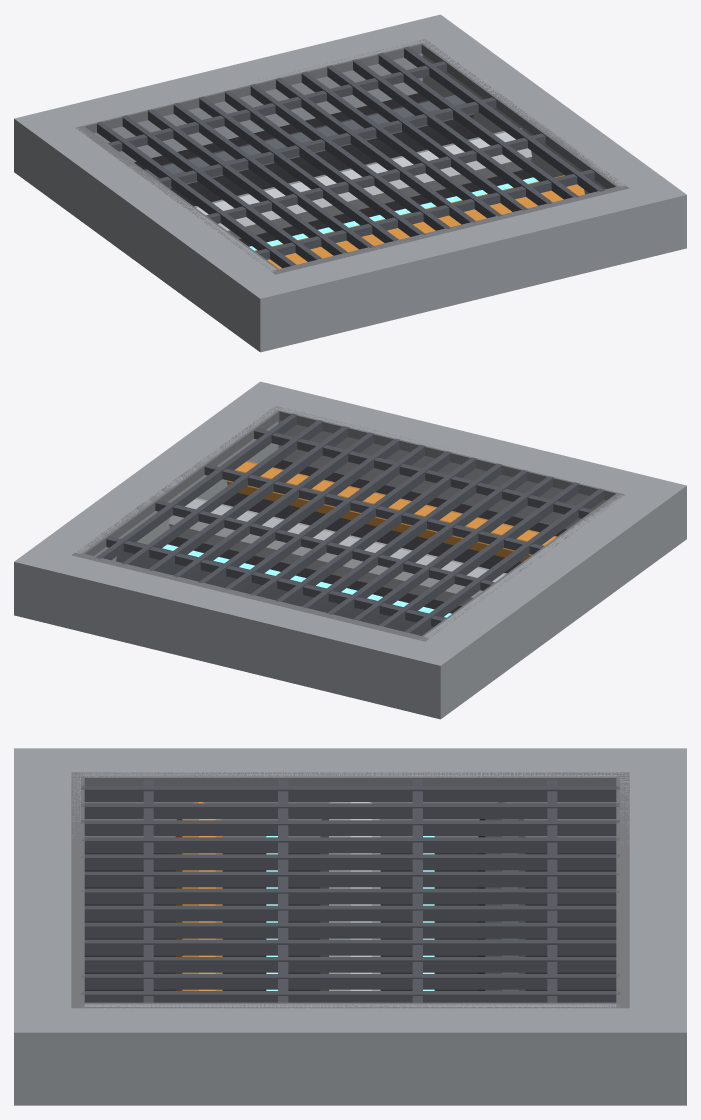
File: SM_Floor_Grate_Lit.glb
3 renders of one model, top to bottom at view 1: azimuth 30°, elevation 25°; view 2: azimuth 150°, elevation 25°; view 3: azimuth 270°, elevation 25°, orthographic. The views are drawn at different scales.
Parts seen in each view (by area): view 1: SM_Floor_Grate_Lit; view 2: SM_Floor_Grate_Lit; view 3: SM_Floor_Grate_Lit.
Part boxes in pixels (x1,y1,x2,y2): SM_Floor_Grate_Lit: [14, 14, 686, 352]; SM_Floor_Grate_Lit: [14, 381, 686, 719]; SM_Floor_Grate_Lit: [14, 748, 686, 1105].
Size of the model in its own units: 2 by 0.24 by 2.
